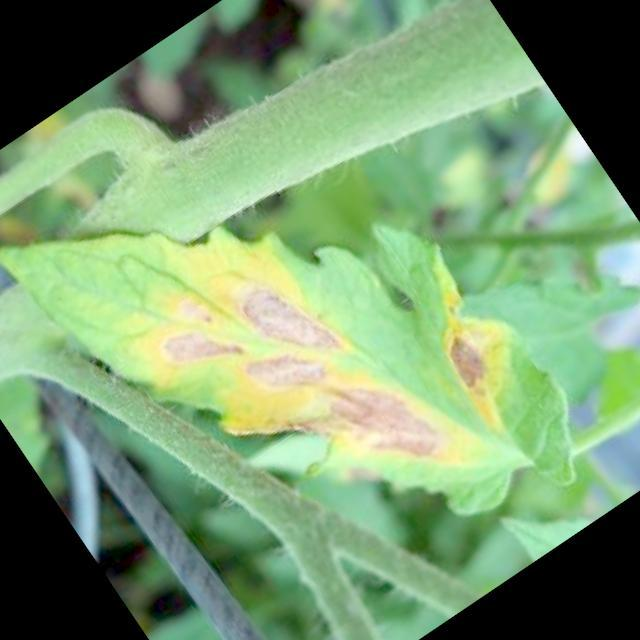Tomato Early blight leaf: (0, 43, 596, 640)
